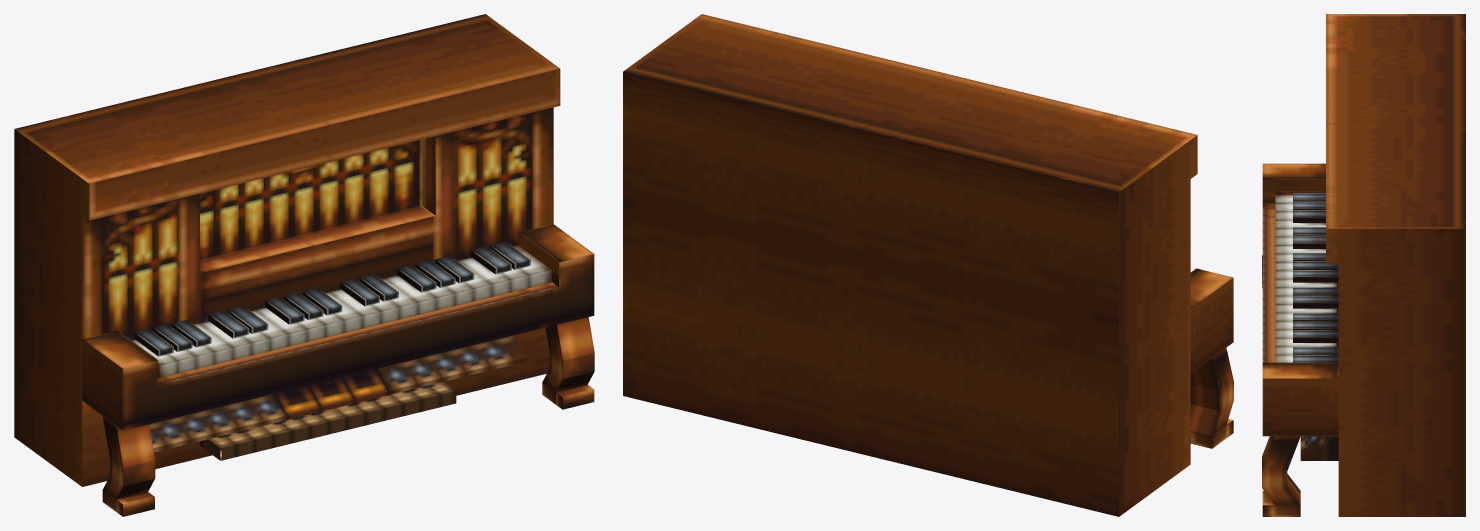
File: Inside_Poly_Piano_02.obj
3 renders of one model, left to right at view 1: azimuth 30°, elevation 25°; view 2: azimuth 150°, elevation 25°; view 3: azimuth 270°, elevation 25°, orthographic. The views are drawn at different scales.
Visible parts, largest first — view 1: Cube.004, Cube, Cube.002, Cube.003; view 2: Cube.004, Cube, Cube.003; view 3: Cube.004, Cube, Cube.002, Cube.003.
Boxes of the visible parts, box(x1,y1,x2,y2) form: Cube.004: box(14, 14, 560, 486); Cube: box(82, 224, 594, 430); Cube.002: box(134, 242, 530, 460); Cube.003: box(102, 317, 594, 516); Cube.004: box(623, 14, 1197, 516); Cube: box(1190, 268, 1233, 373); Cube.003: box(1190, 348, 1233, 448); Cube.004: box(1326, 14, 1465, 516); Cube: box(1262, 163, 1338, 436); Cube.002: box(1293, 193, 1338, 460); Cube.003: box(1262, 255, 1300, 516).
Size of the model in its own units: 2 by 1.25 by 0.802.
Materials: 1 (1 with a texture image).
